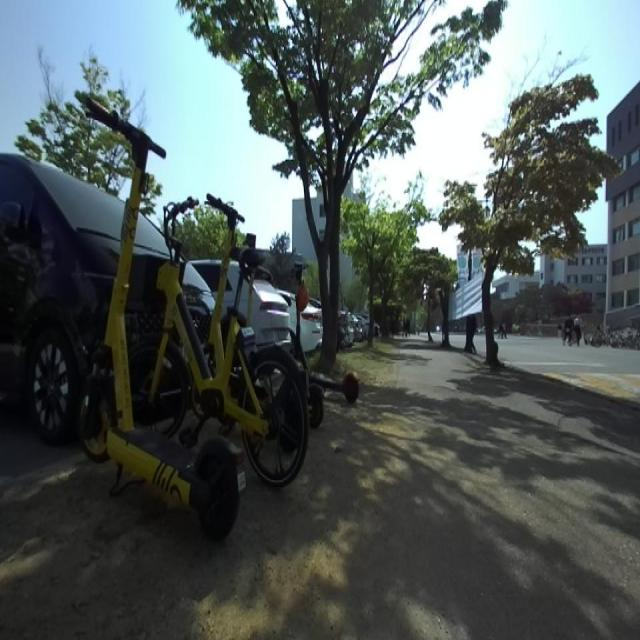sidewalk: (341, 332, 640, 640)
